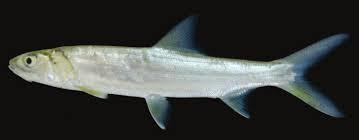Tenpounder: (8, 17, 348, 130)
